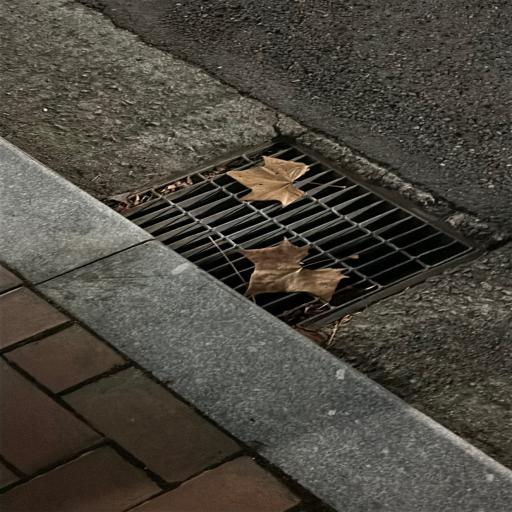debris: (238, 240, 343, 303), (227, 155, 307, 204), (316, 156, 347, 175), (163, 179, 191, 198), (122, 198, 148, 211), (205, 163, 225, 179)
drain: (118, 139, 481, 324)
